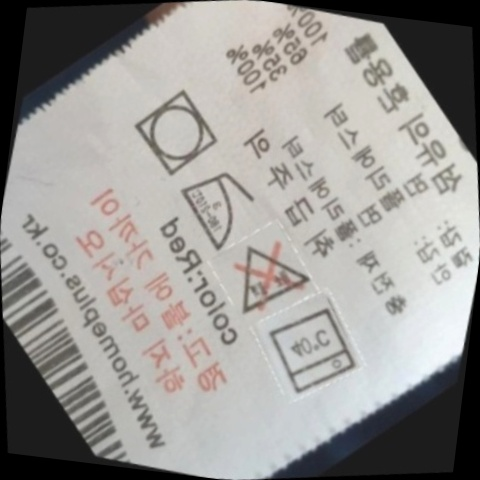40C: (241, 284, 374, 415)
iron_high: (157, 145, 268, 263)
non_chlorine_bleach: (207, 217, 324, 334)
tumble_dry_normal: (104, 60, 242, 203)
